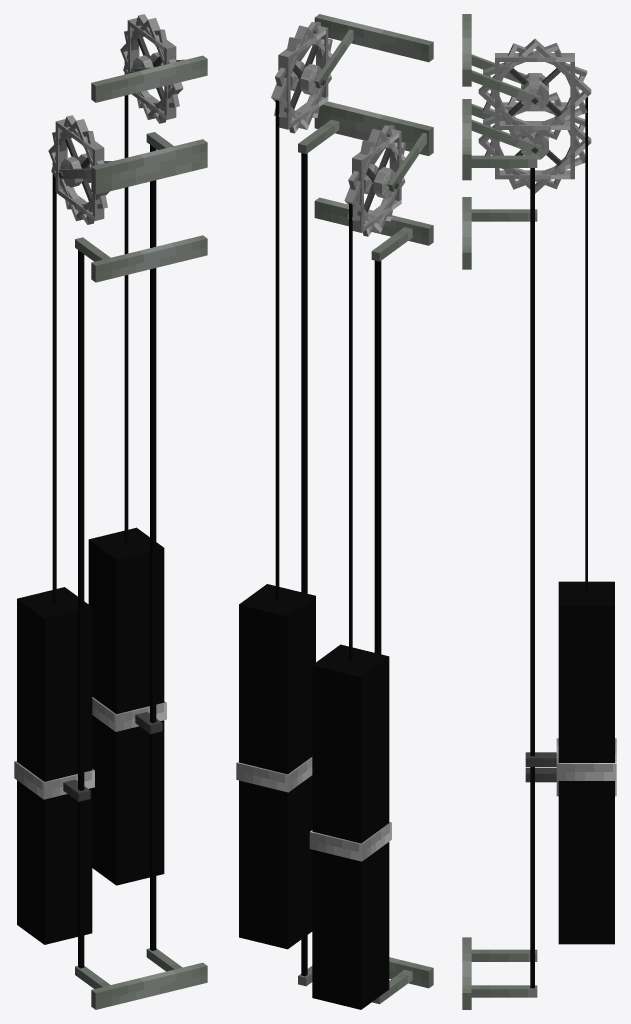
The model's file is tensioning_device.obj.
The picture shows the model from 3 angles, left to right: view 1: azimuth 30°, elevation 25°; view 2: azimuth 150°, elevation 25°; view 3: azimuth 270°, elevation 25°; orthographic projection. The views are drawn at different scales.
Parts seen in each view (by area): view 1: c56, c49, c53, c58, c2, c101, c102, c1, c57, c52, c51, c50; view 2: c56, c49, c53, c58, c2, c52, c1, c57, c101, c51, c50, c102 (+9 smaller); view 3: c49, c53, c52, c50, c61, c59, c2, c60, c62, c8, c31, c1 (+12 smaller).
Part boxes in pixels (<box>): c56: <box>17,587,92,944</box>; c49: <box>88,527,164,885</box>; c53: <box>150,145,156,950</box>; c58: <box>78,250,84,968</box>; c2: <box>91,139,207,194</box>; c101: <box>91,235,207,282</box>; c102: <box>91,962,207,1009</box>; c1: <box>91,55,207,102</box>; c57: <box>52,162,56,603</box>; c52: <box>124,61,128,544</box>; c51: <box>14,761,94,799</box>; c50: <box>92,697,166,731</box>; c56: <box>312,644,389,1009</box>; c49: <box>239,584,315,949</box>; c53: <box>301,153,307,976</box>; c58: <box>374,260,381,654</box>; c2: <box>314,101,433,155</box>; c52: <box>275,100,279,600</box>; c1: <box>314,14,433,62</box>; c57: <box>349,203,352,661</box>; c101: <box>314,197,433,245</box>; c51: <box>309,822,391,861</box>; c50: <box>236,757,312,792</box>; c102: <box>389,957,433,988</box>; c49: <box>558,581,614,937</box>; c53: <box>530,168,534,988</box>; c52: <box>585,97,587,594</box>; c50: <box>556,738,616,780</box>; c61: <box>471,155,537,167</box>; c59: <box>471,985,537,997</box>; c2: <box>462,99,471,180</box>; c60: <box>471,209,537,221</box>; c62: <box>471,949,537,961</box>; c8: <box>471,70,541,105</box>; c31: <box>471,119,541,155</box>; c1: <box>462,14,471,86</box>.
Bounding box in the file's own units: 0.9625 × 7.05 × 1.03.
